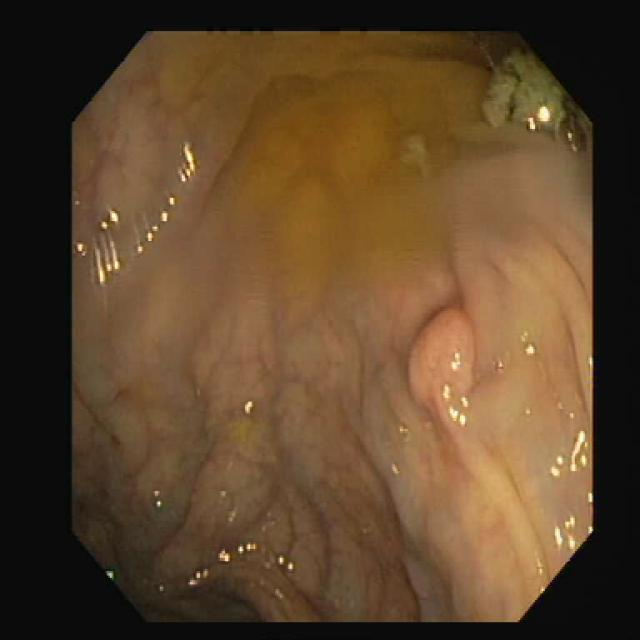tumor: (407, 302, 473, 404)
